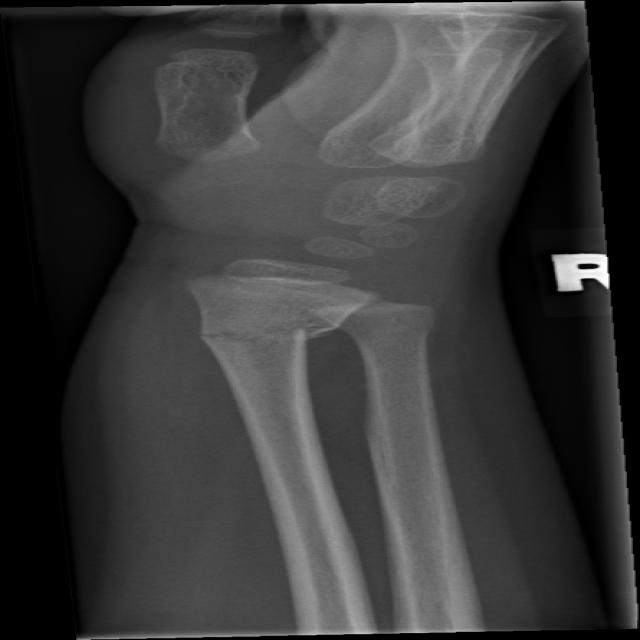radius fracture: (189, 263, 373, 440)
